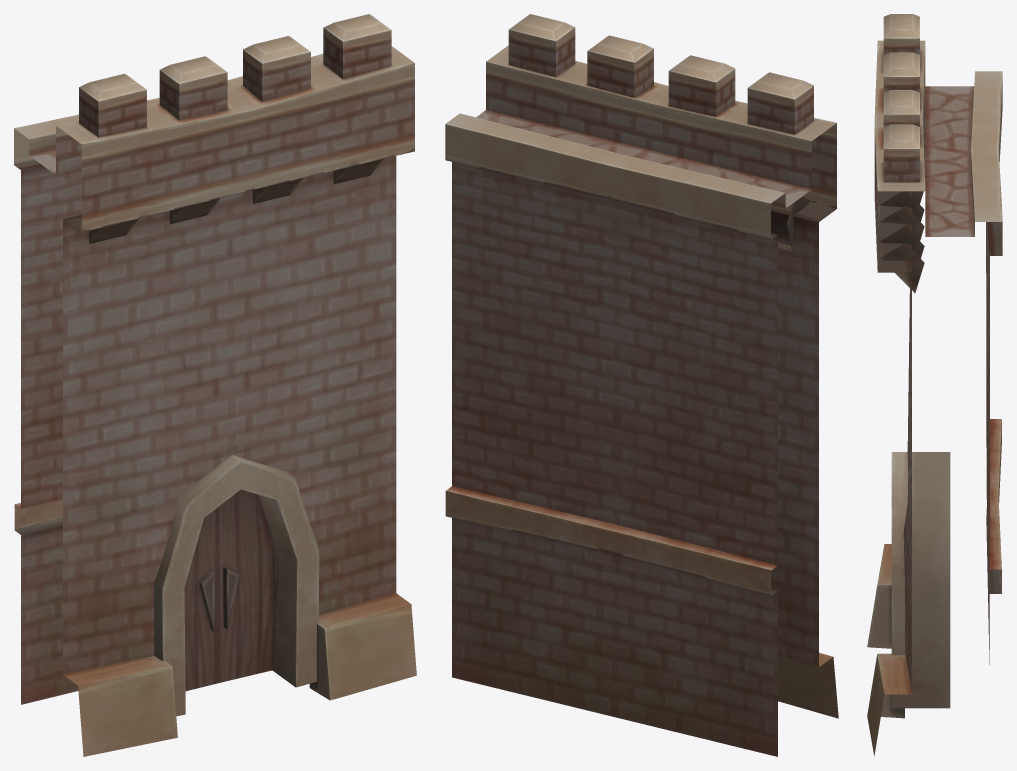
Rendered from castleWalls_bigWall_3.FBX.
3 views of the same model, side by side, from view 1: azimuth 30°, elevation 25°; view 2: azimuth 150°, elevation 25°; view 3: azimuth 270°, elevation 25° (orthographic). The views are drawn at different scales.
Parts seen in each view (by area): view 1: castleWalls_bigWall_3; view 2: castleWalls_bigWall_3; view 3: castleWalls_bigWall_3.
Part boxes in pixels (<box>): castleWalls_bigWall_3: <box>14,14,416,756</box>; castleWalls_bigWall_3: <box>445,14,838,756</box>; castleWalls_bigWall_3: <box>867,14,1002,755</box>.
Bounding box in the file's own units: 302 × 567 × 115.
1 material, 1 textured.
